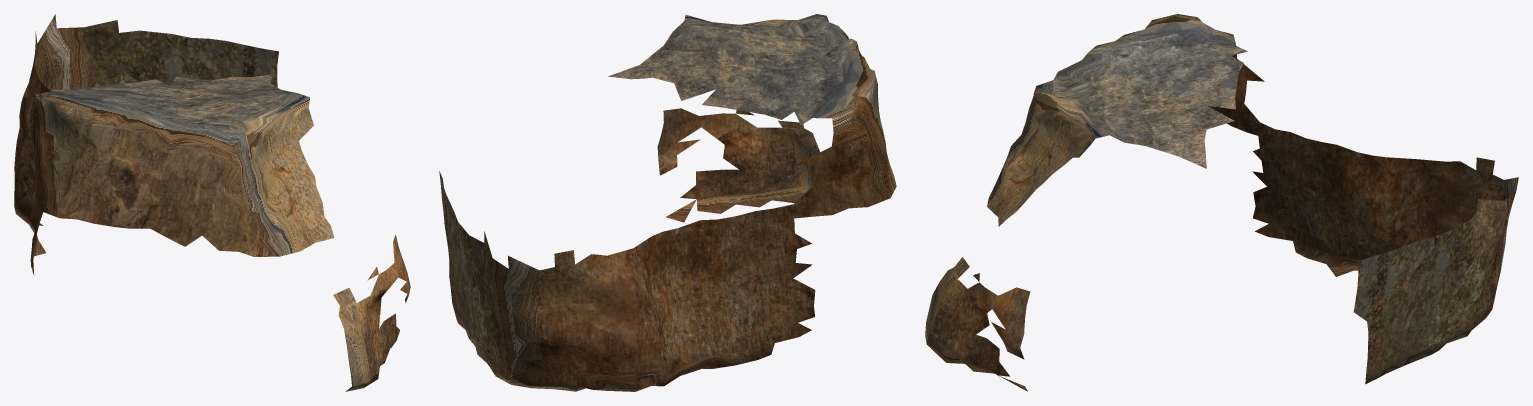
The model's file is namaqualand_boulder_03.glb.
3 views of the same model, side by side, from view 1: azimuth 30°, elevation 25°; view 2: azimuth 150°, elevation 25°; view 3: azimuth 270°, elevation 25° (orthographic). The views are drawn at different scales.
Parts seen in each view (by area): view 1: boulder_03_LOD0; view 2: boulder_03_LOD0; view 3: boulder_03_LOD0.
Part boxes in pixels (x1,y1,x2,y2): boulder_03_LOD0: (14,14,410,391); boulder_03_LOD0: (439,14,896,391); boulder_03_LOD0: (925,14,1518,391).
Bounding box in the file's own units: 1.96 × 1.41 × 3.04.
1 material, 1 textured.
